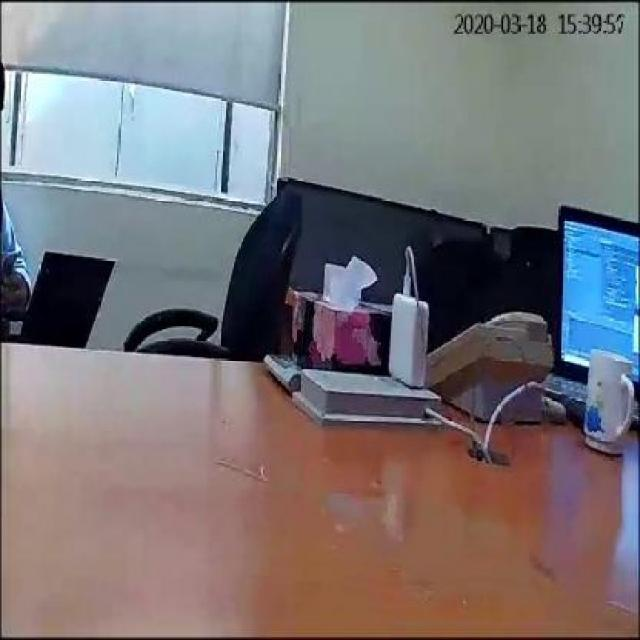spill: (326, 496, 545, 598)
